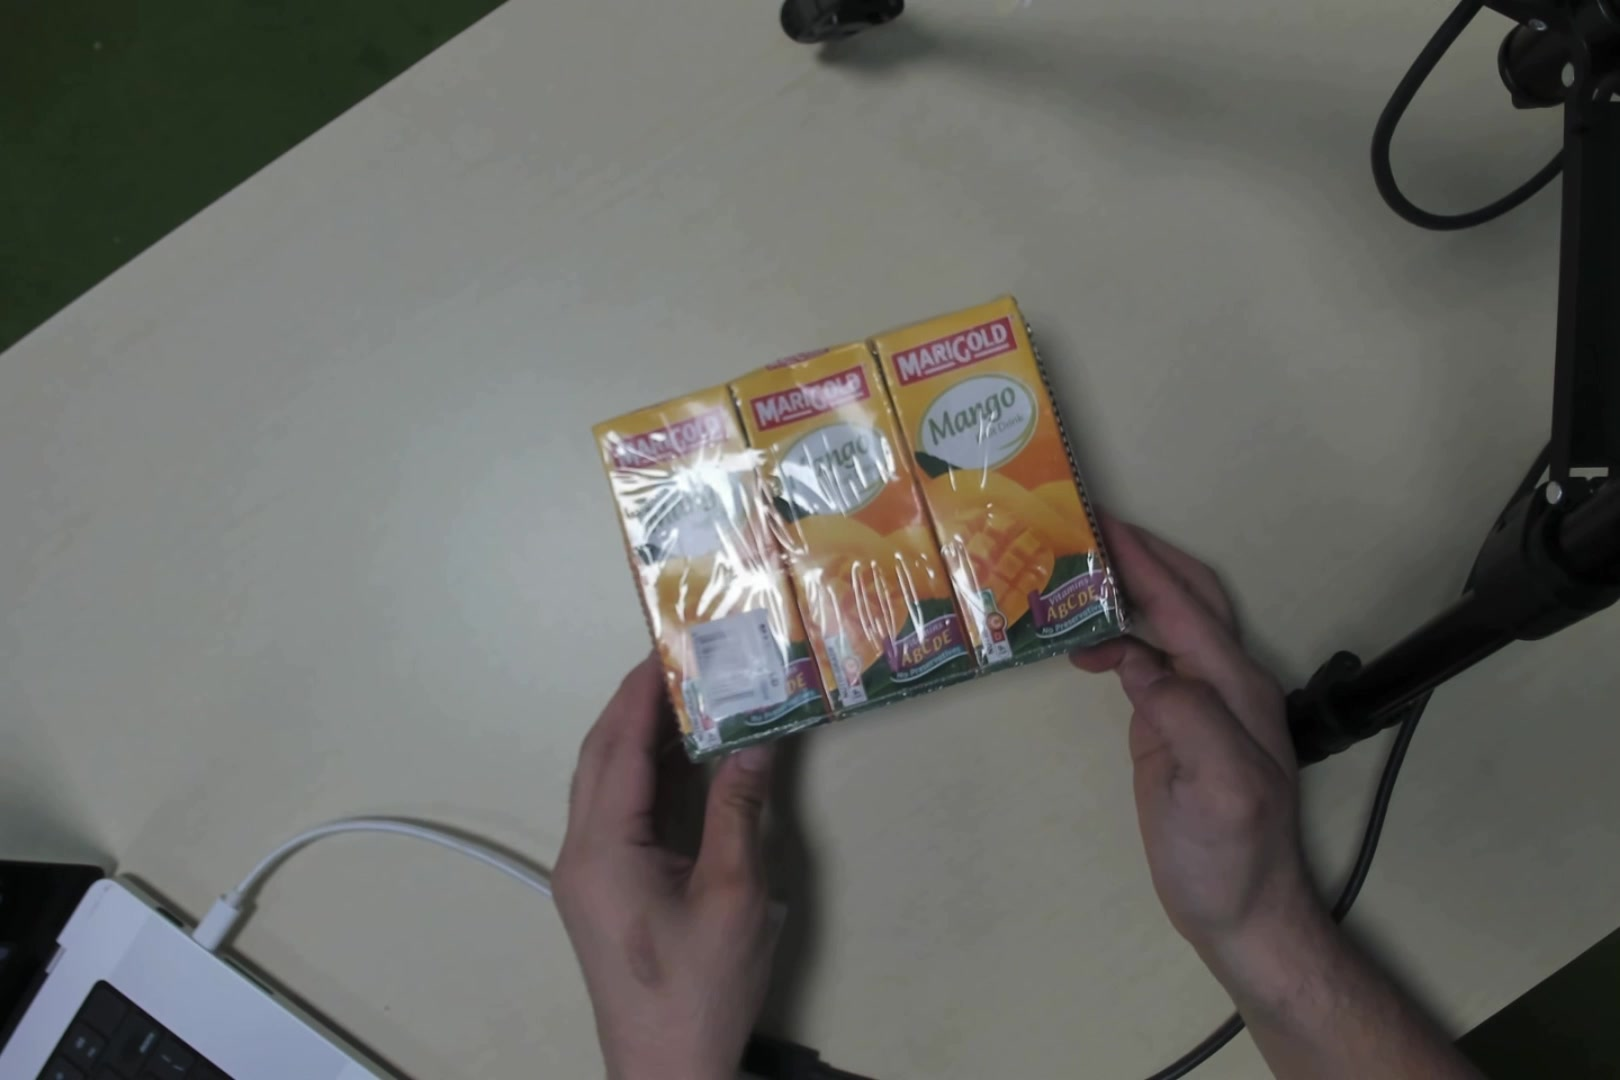FruitJuice_700-799g_Halal_NonHealthy: (611, 299, 1107, 715)
